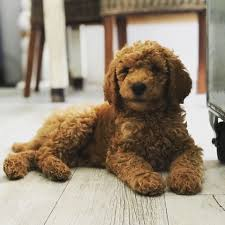Bulldog: (1, 16, 221, 209)
